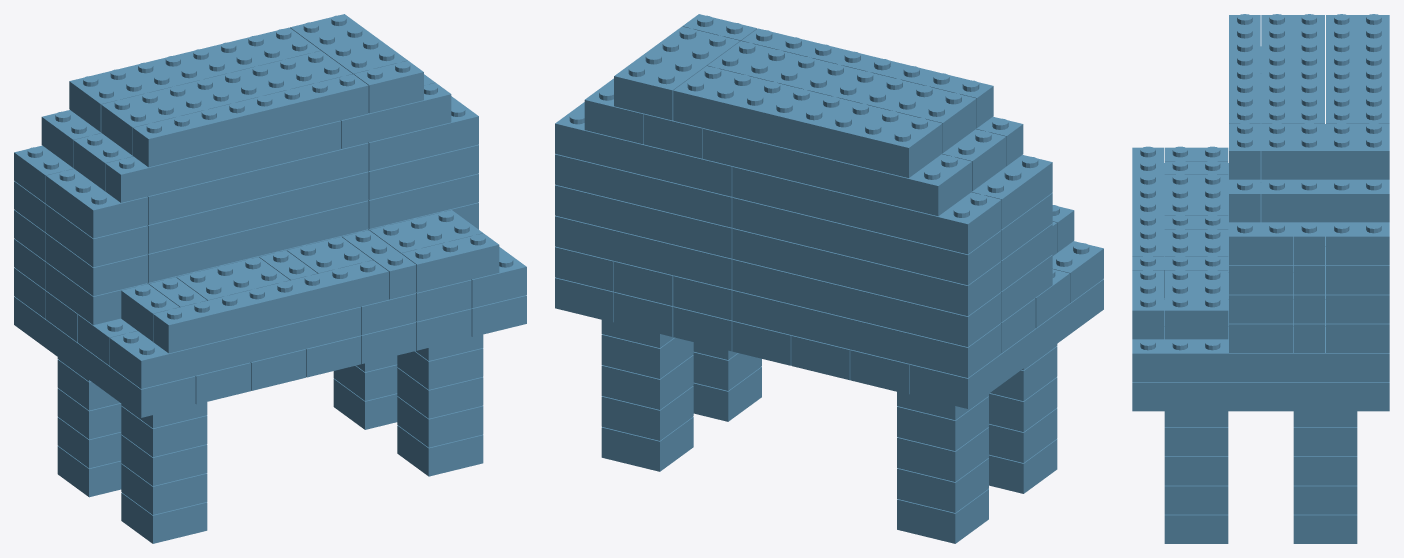
The model's file is 193_piano_L3.glb.
3 renders of one model, left to right at view 1: azimuth 30°, elevation 25°; view 2: azimuth 150°, elevation 25°; view 3: azimuth 270°, elevation 25°, orthographic. The views are drawn at different scales.
Size of the model in its own units: 13.98 by 13.13 by 7.98.
